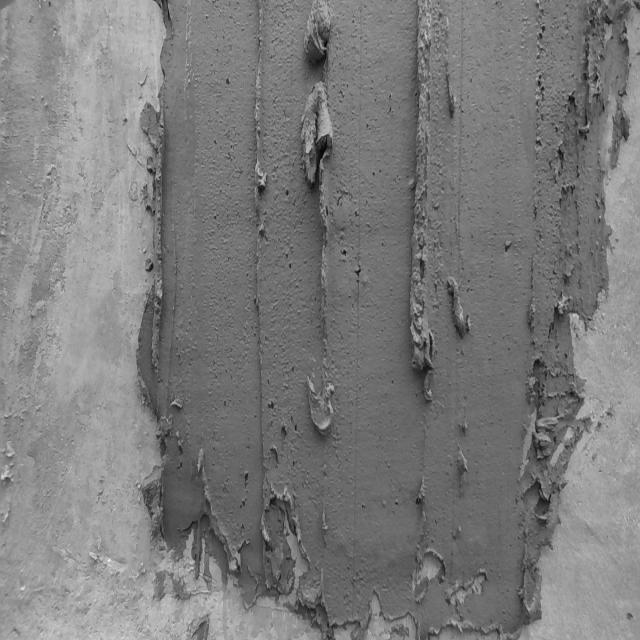trowels marks: (298, 0, 338, 464), (410, 0, 446, 403), (248, 0, 270, 486)
